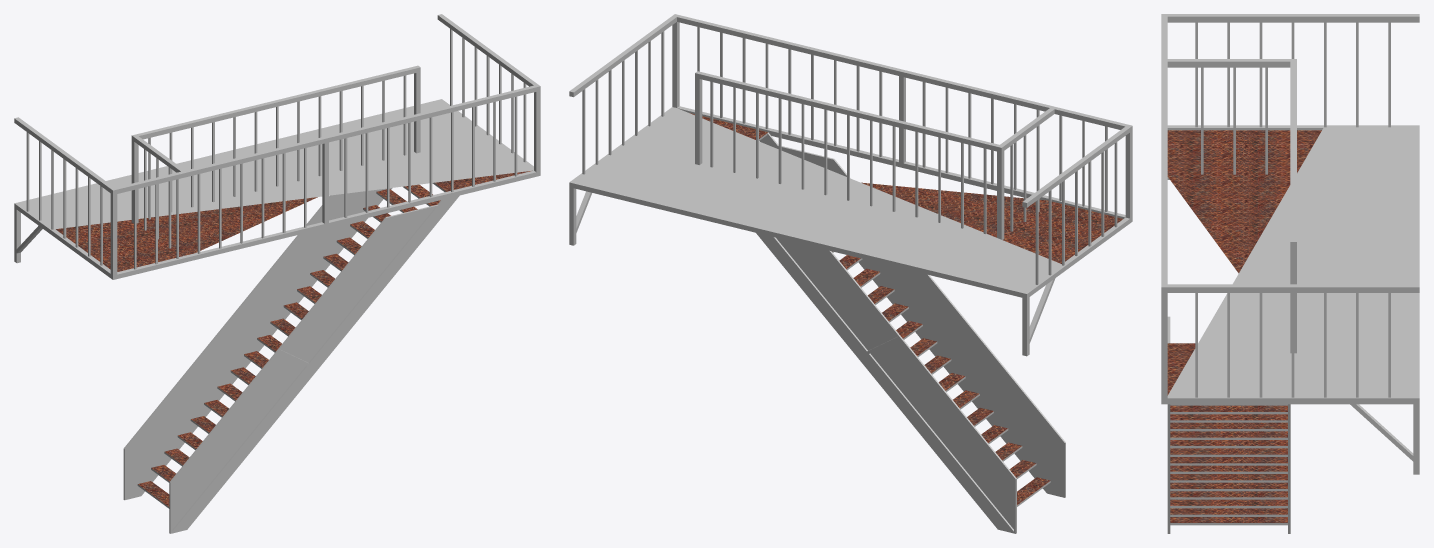
Rendered from Top.FBX.
The picture shows the model from 3 angles, left to right: view 1: azimuth 30°, elevation 25°; view 2: azimuth 150°, elevation 25°; view 3: azimuth 270°, elevation 25°; orthographic projection. The views are drawn at different scales.
Visible parts, largest first — view 1: Top; view 2: Top; view 3: Top.
Boxes of the visible parts, <box> form: Top: <box>14,14,540,533</box>; Top: <box>569,14,1132,533</box>; Top: <box>1161,14,1419,533</box>.
Size of the model in its own units: 500 by 402 by 200.
